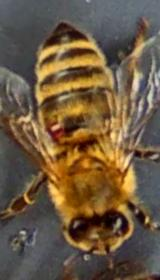varroa_mite: (44, 108, 76, 149)
